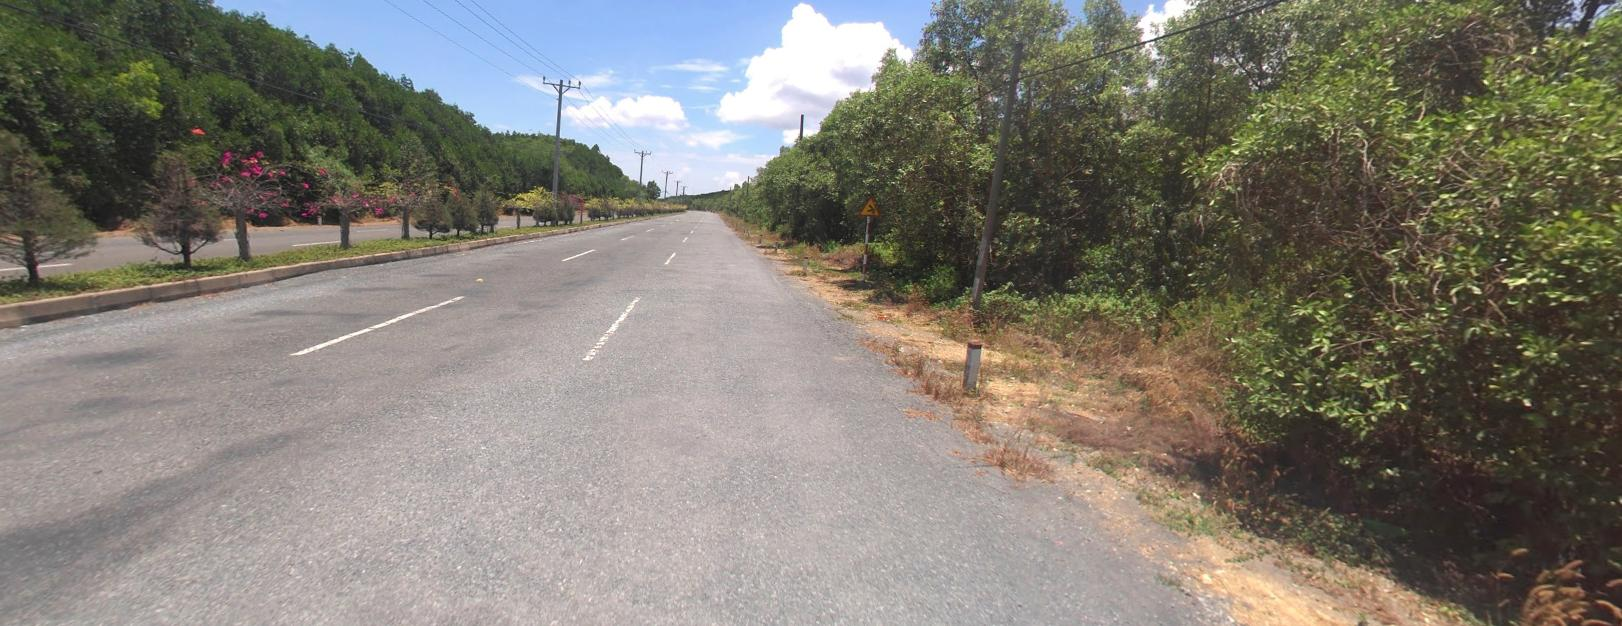Nguy hiem: (858, 193, 881, 215)
